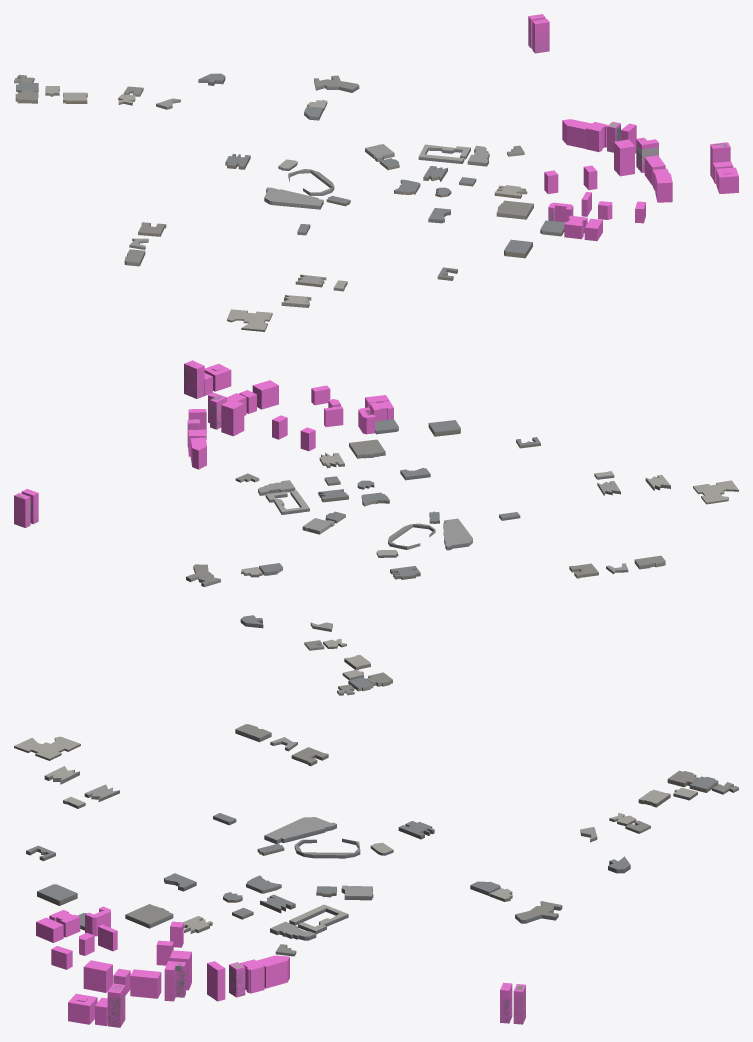
The model's file is bld_16_14.fbx.
The picture shows the model from 3 angles, top to bottom: view 1: azimuth 30°, elevation 25°; view 2: azimuth 150°, elevation 25°; view 3: azimuth 270°, elevation 25°; orthographic projection. The views are drawn at different scales.
Visible parts, largest first — view 1: bld_16_14_LOD0, bld_16_14_COL; view 2: bld_16_14_LOD0, bld_16_14_COL; view 3: bld_16_14_LOD0, bld_16_14_COL.
Boxes of the visible parts, x1=… form: bld_16_14_LOD0: x1=14, y1=15, x2=731, y2=331; bld_16_14_COL: x1=528, y1=14, x2=738, y2=241; bld_16_14_LOD0: x1=15, y1=363, x2=738, y2=695; bld_16_14_COL: x1=14, y1=360, x2=393, y2=527; bld_16_14_LOD0: x1=14, y1=724, x2=738, y2=1026; bld_16_14_COL: x1=36, y1=906, x2=525, y2=1027.
Size of what is drawn, in the model's own units: 2058 by 110 by 2104.
